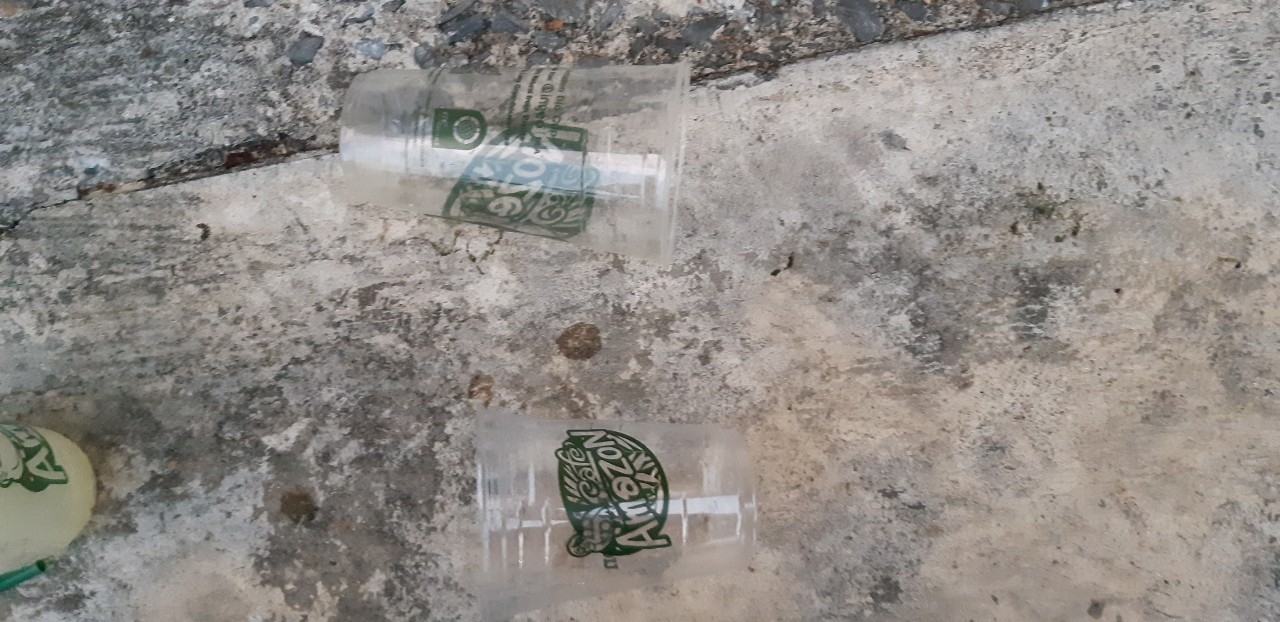PlasticCup: (337, 60, 689, 269), (469, 404, 768, 619), (1, 423, 103, 578)
